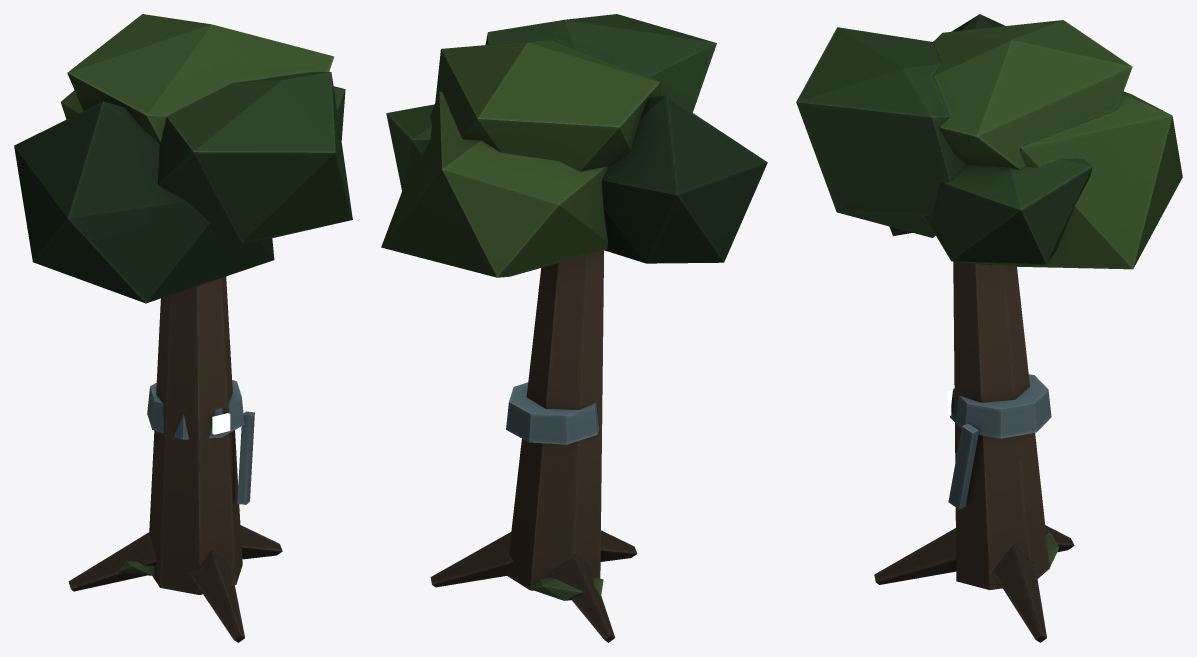
File: obj_live_tree_a.glb
3 views of the same model, side by side, from view 1: azimuth 30°, elevation 25°; view 2: azimuth 150°, elevation 25°; view 3: azimuth 270°, elevation 25° (orthographic).
Visible parts, largest first — view 1: obj_live_tree_a; view 2: obj_live_tree_a; view 3: obj_live_tree_a.
Boxes of the visible parts, <box> form: obj_live_tree_a: <box>14,14,352,642</box>; obj_live_tree_a: <box>381,14,767,642</box>; obj_live_tree_a: <box>796,14,1182,642</box>.
Bounding box in the file's own units: 1.25 × 2.02 × 1.26.
Materials: 1 (1 with a texture image).
